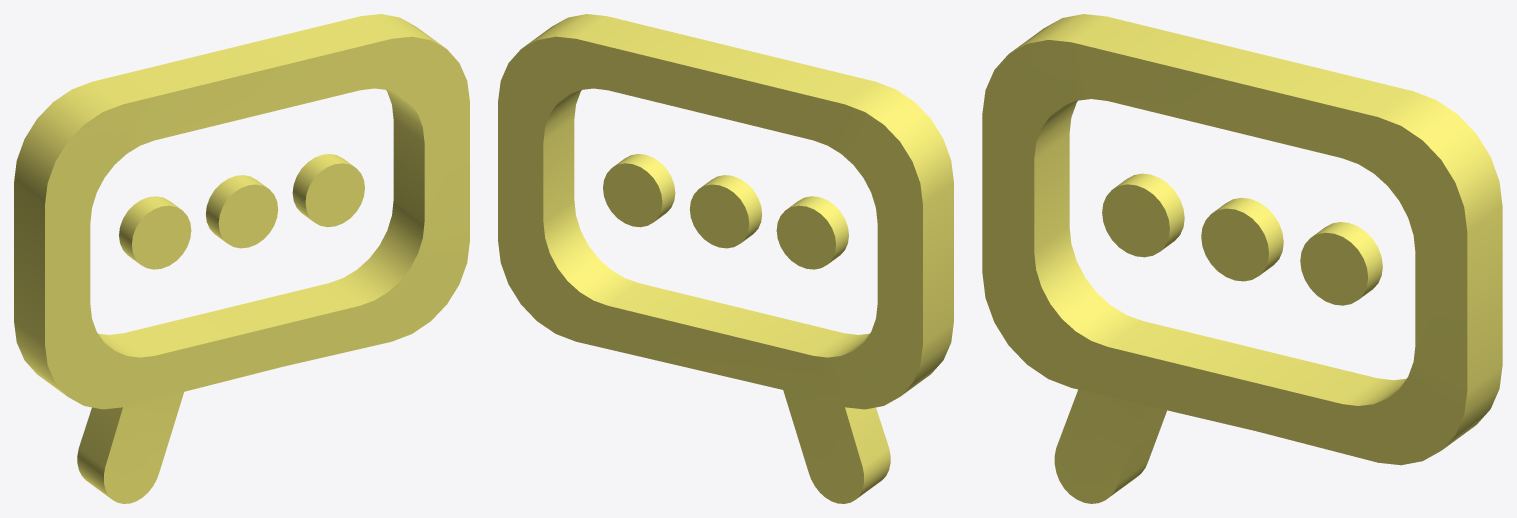
The model's file is more_button.glb.
3 renders of one model, left to right at view 1: azimuth 30°, elevation 25°; view 2: azimuth 150°, elevation 25°; view 3: azimuth 330°, elevation 25°, orthographic. The views are drawn at different scales.
Parts seen in each view (by area): view 1: Cube.375, Cylinder.169, Cylinder.171, Cylinder.172; view 2: Cube.375, Cylinder.169, Cylinder.171, Cylinder.172; view 3: Cube.375, Cylinder.171, Cylinder.172, Cylinder.169.
Boxes of the visible parts, x1=… form: Cube.375: x1=14, y1=14, x2=469, y2=503; Cylinder.169: x1=119, y1=196, x2=191, y2=269; Cylinder.171: x1=205, y1=175, x2=278, y2=248; Cylinder.172: x1=292, y1=154, x2=364, y2=227; Cube.375: x1=498, y1=14, x2=953, y2=503; Cylinder.169: x1=776, y1=196, x2=848, y2=269; Cylinder.171: x1=689, y1=175, x2=762, y2=248; Cylinder.172: x1=603, y1=154, x2=675, y2=227; Cube.375: x1=982, y1=14, x2=1502, y2=503; Cylinder.171: x1=1201, y1=197, x2=1283, y2=281; Cylinder.172: x1=1300, y1=222, x2=1382, y2=305; Cylinder.169: x1=1102, y1=173, x2=1184, y2=257.
Bounding box in the file's own units: 2.94 × 2.66 × 0.37.
